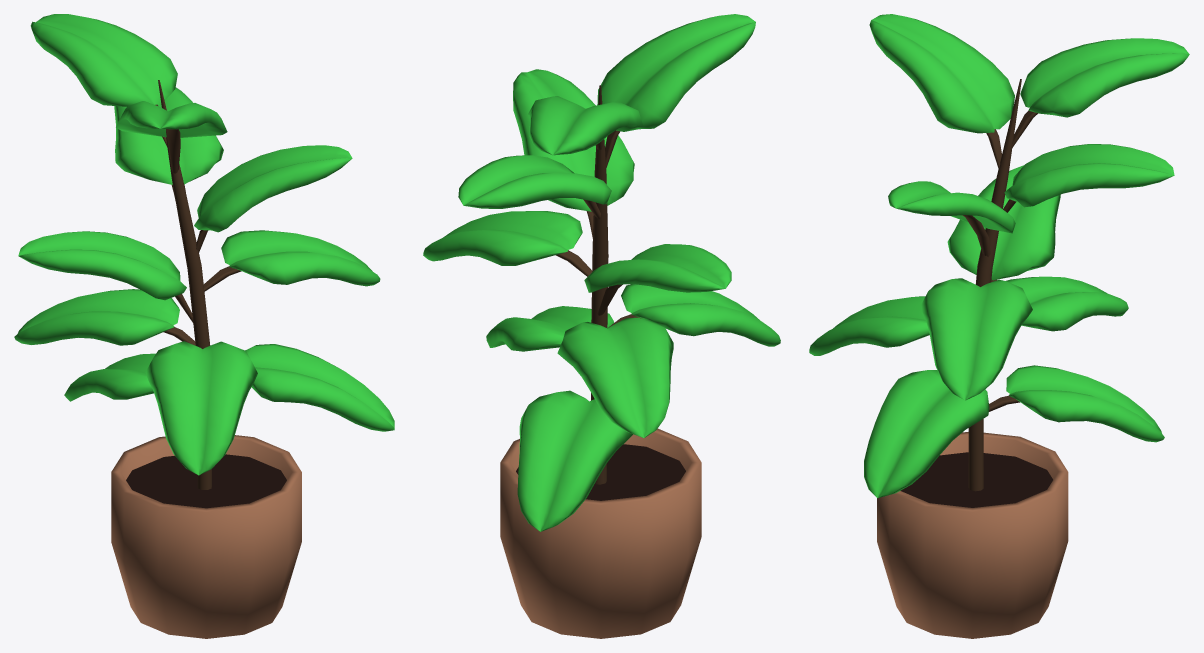
File: uploads_files_3191448_FicusPlant.fbx
3 views of the same model, side by side, from view 1: azimuth 30°, elevation 25°; view 2: azimuth 150°, elevation 25°; view 3: azimuth 270°, elevation 25° (orthographic). The views are drawn at different scales.
Parts seen in each view (by area): view 1: Ficus, Pot; view 2: Ficus, Pot; view 3: Ficus, Pot.
Boxes of the visible parts, x1,y1,x2,y2 form: Ficus: (14, 14, 394, 489); Pot: (111, 435, 301, 638); Ficus: (423, 14, 780, 531); Pot: (500, 428, 701, 638); Ficus: (809, 14, 1189, 498); Pot: (877, 432, 1068, 638).
Bounding box in the file's own units: 388 × 627 × 397.
